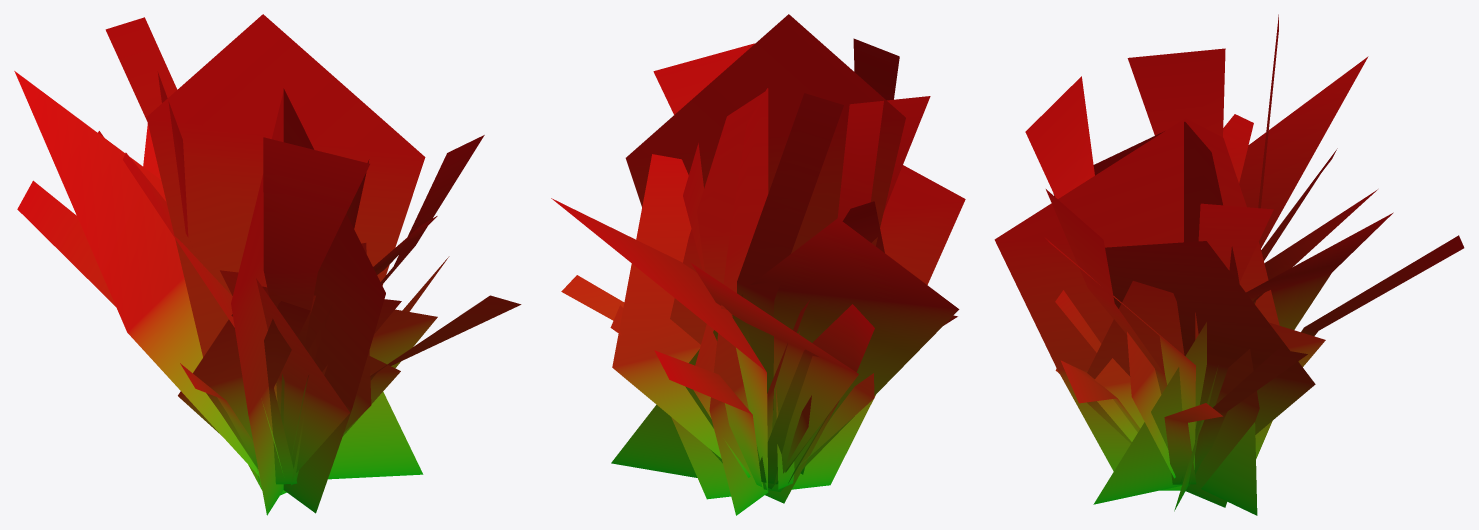
The model's file is Leafy Nineawn_LOD1_Var3_tlijciuia.fbx.
3 views of the same model, side by side, from view 1: azimuth 30°, elevation 25°; view 2: azimuth 150°, elevation 25°; view 3: azimuth 270°, elevation 25° (orthographic). The views are drawn at different scales.
Parts seen in each view (by area): view 1: _ecbb_Var3_LOD1; view 2: _ecbb_Var3_LOD1; view 3: _ecbb_Var3_LOD1.
Boxes of the visible parts, x1,y1,x2,y2 form: _ecbb_Var3_LOD1: (14, 14, 521, 515); _ecbb_Var3_LOD1: (551, 14, 965, 515); _ecbb_Var3_LOD1: (994, 14, 1464, 515).
Size of the model in its own units: 11.59 by 14.59 by 13.77.
